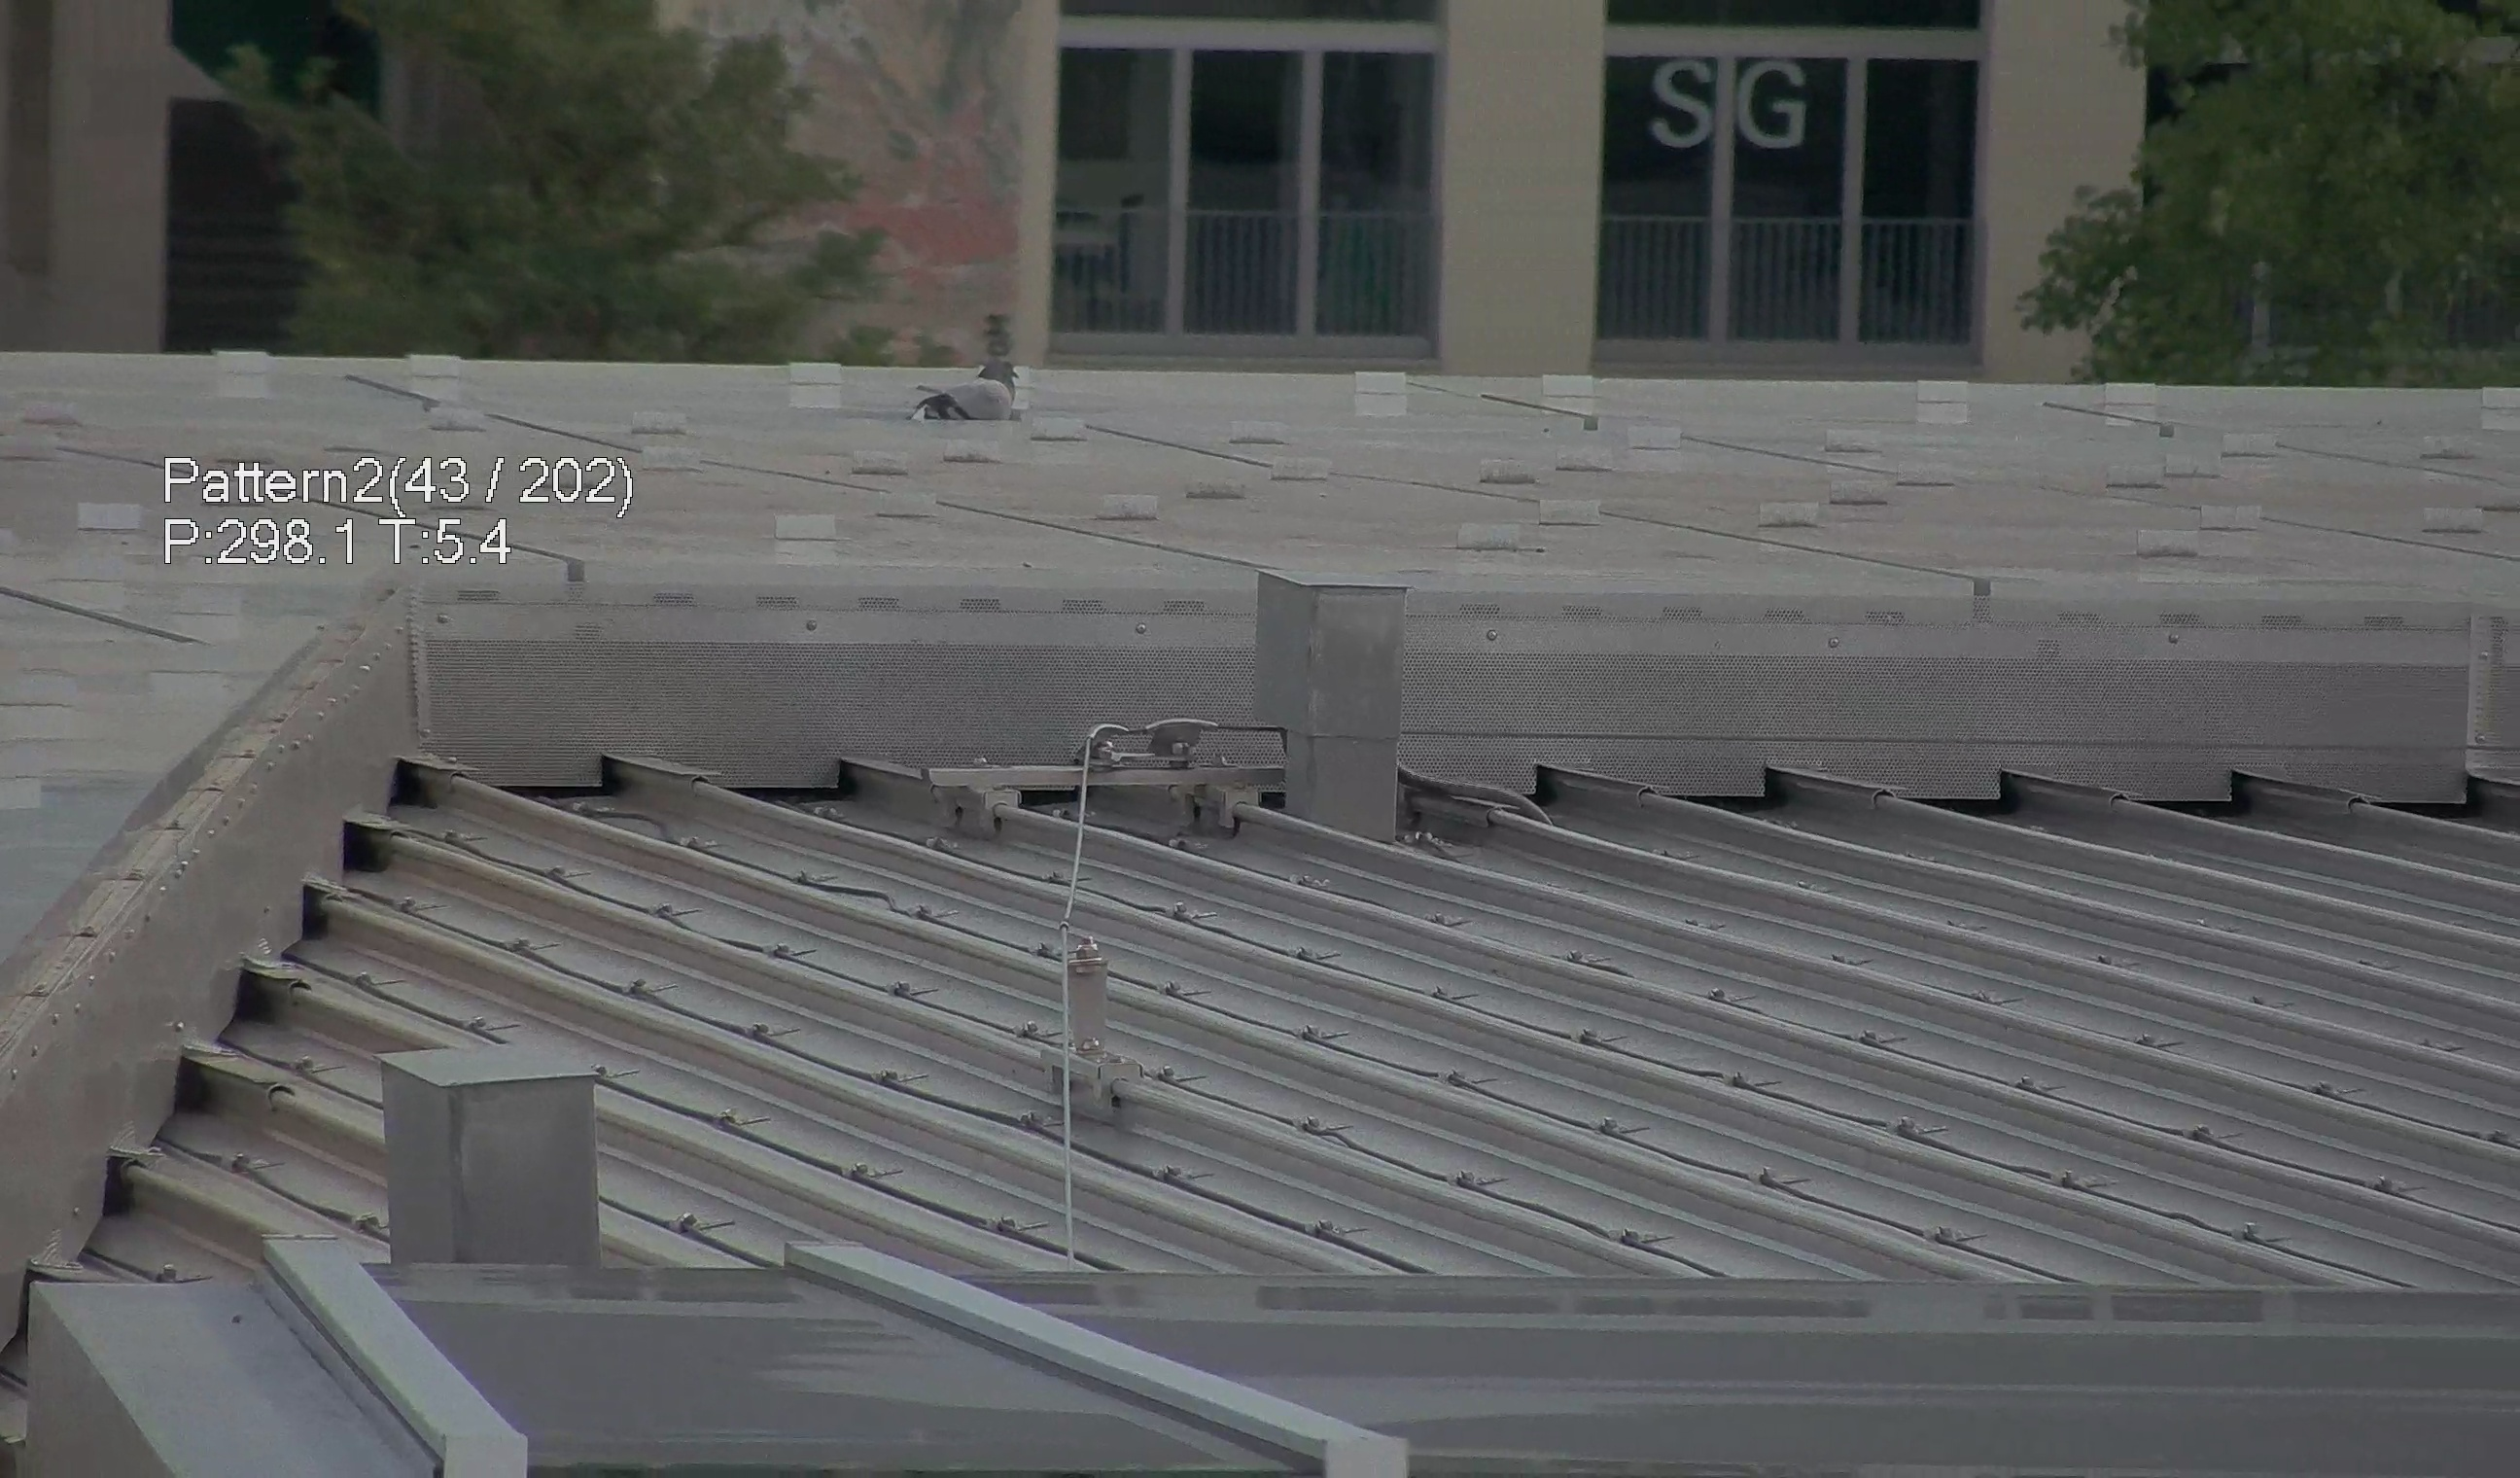Pigeon: (888, 317, 1031, 428)
